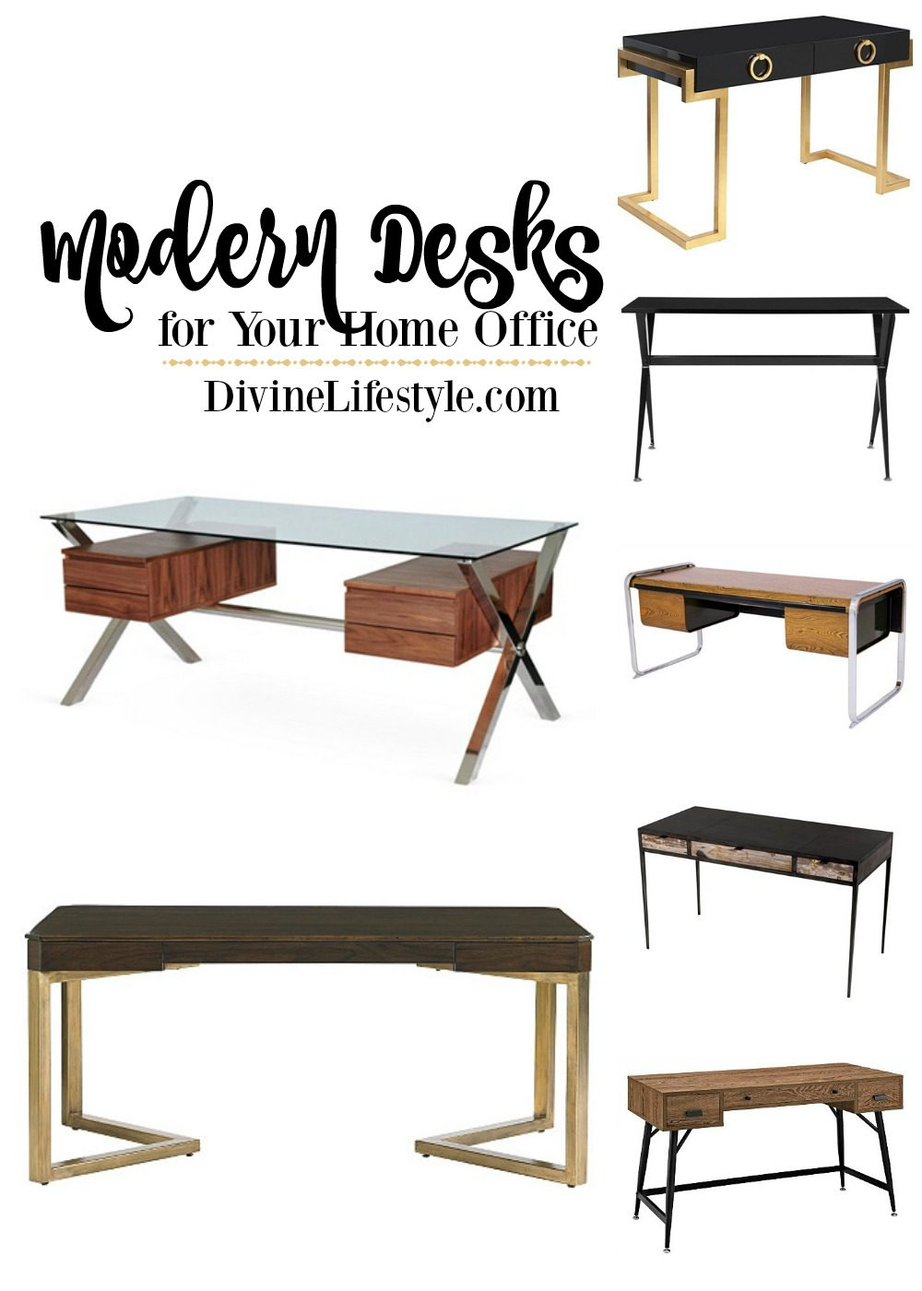not a gesture sign: (52, 939, 596, 1228)
